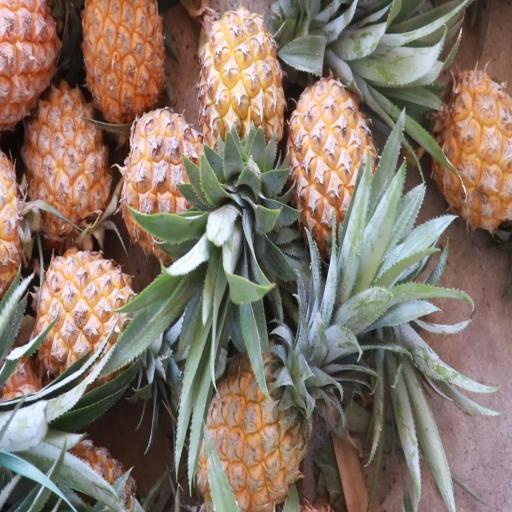Pineapple - v8 v1: (188, 334, 338, 511), (284, 71, 385, 258), (197, 5, 290, 201), (32, 239, 148, 396), (118, 104, 221, 274), (20, 80, 117, 256), (430, 58, 512, 240), (80, 0, 170, 130)
